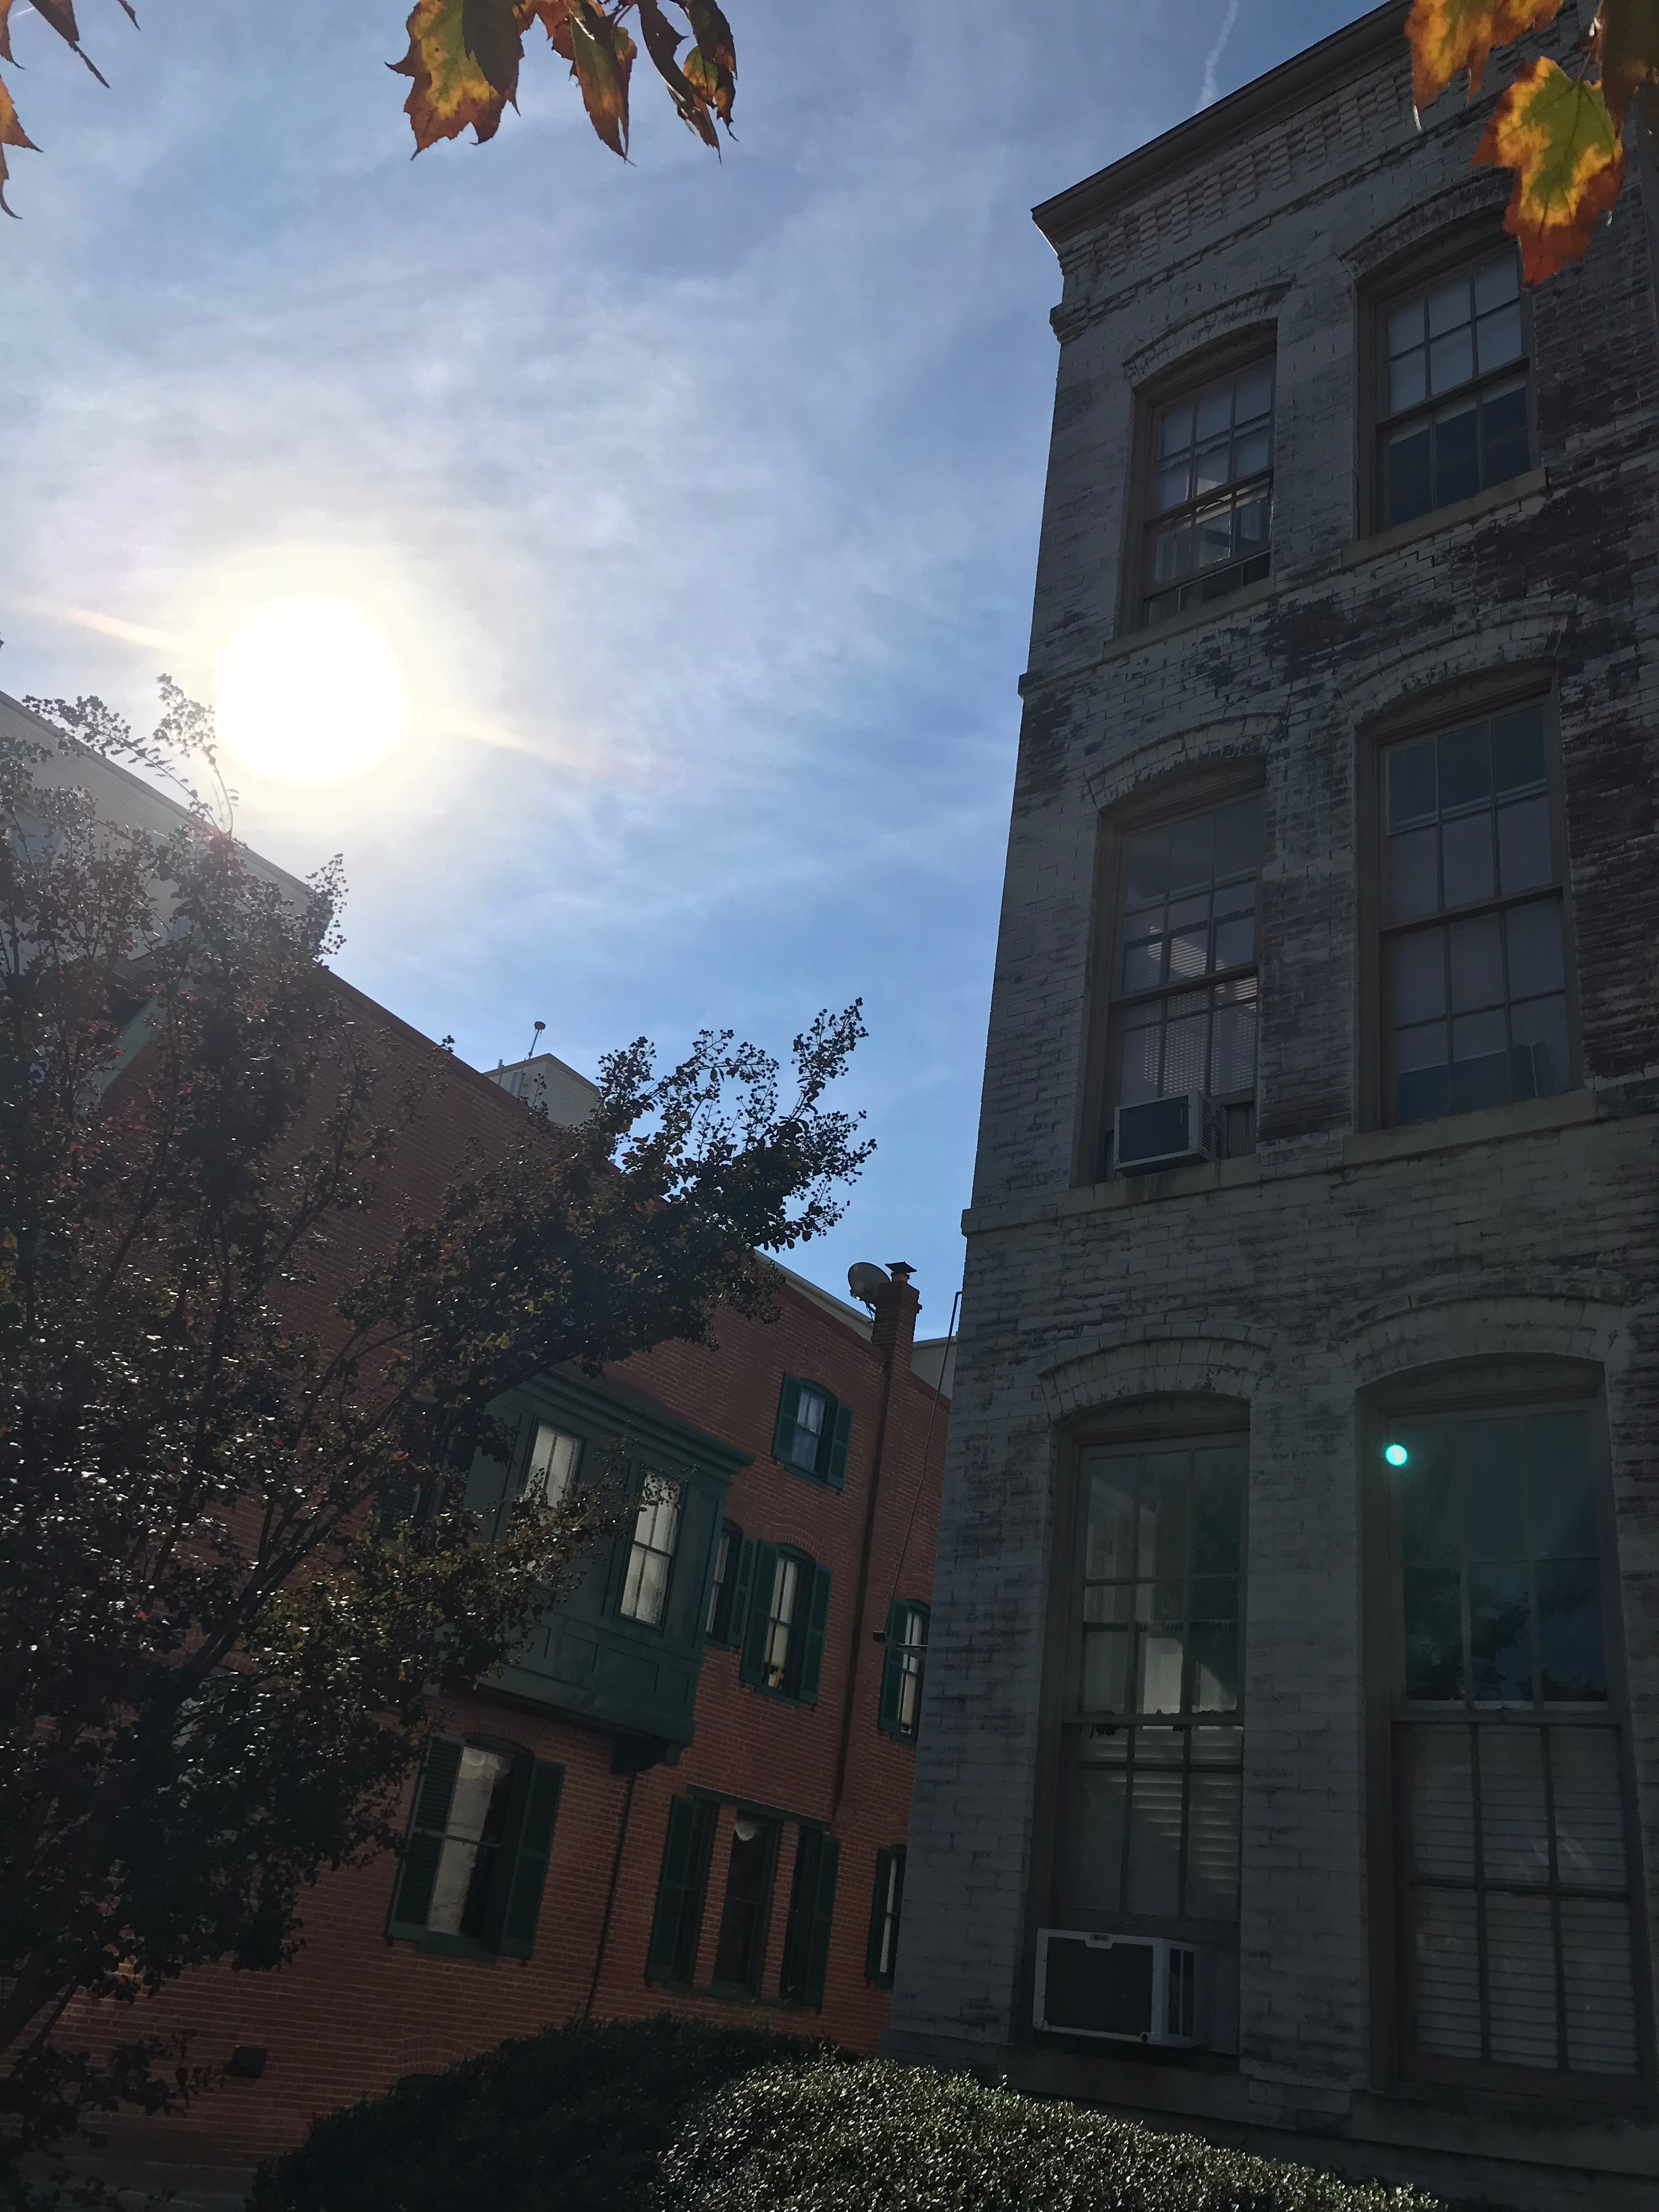flare: (1382, 1442, 1412, 1470)
